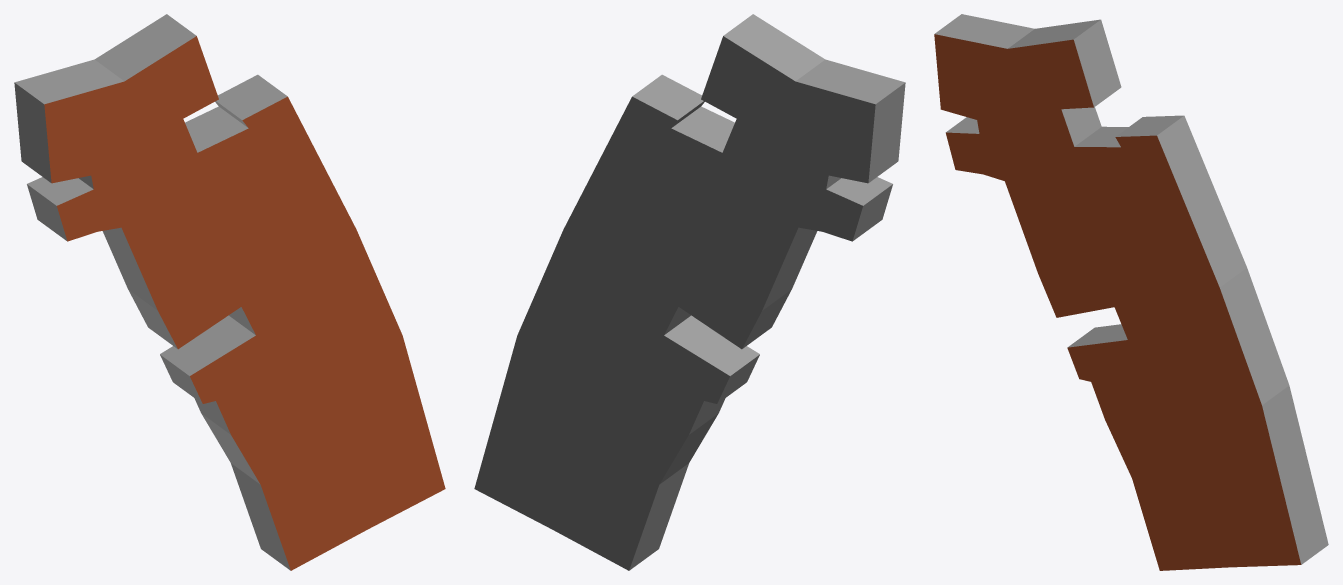
Rendered from construction_7072_assumed_A_Casa_h6m.obj.
The picture shows the model from 3 angles, left to right: view 1: azimuth 30°, elevation 25°; view 2: azimuth 150°, elevation 25°; view 3: azimuth 330°, elevation 25°; orthographic projection. The views are drawn at different scales.
Parts seen in each view (by area): view 1: construction_7072_assumed_A_Casa; view 2: construction_7072_assumed_A_Casa; view 3: construction_7072_assumed_A_Casa.
Part boxes in pixels (bbox=[...]): construction_7072_assumed_A_Casa: bbox=[14, 14, 445, 570]; construction_7072_assumed_A_Casa: bbox=[474, 14, 905, 570]; construction_7072_assumed_A_Casa: bbox=[934, 14, 1328, 570].
Bounding box in the file's own units: 46.33 × 61.56 × 6.
